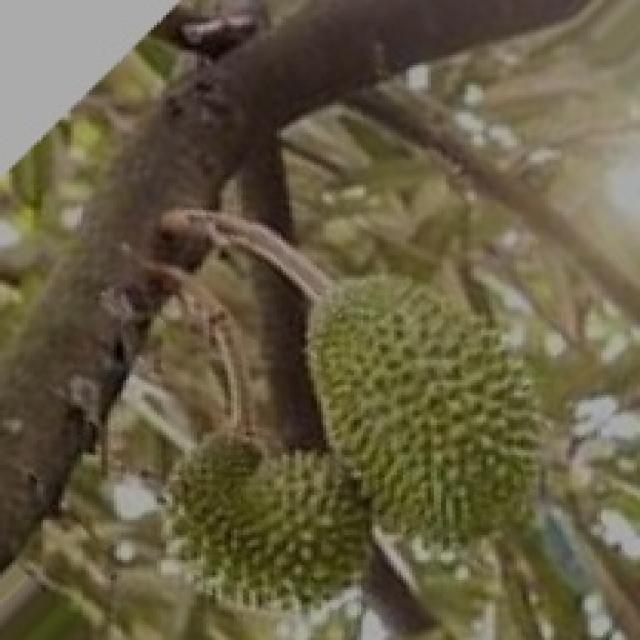fruit: (258, 233, 616, 605), (132, 405, 403, 640)
